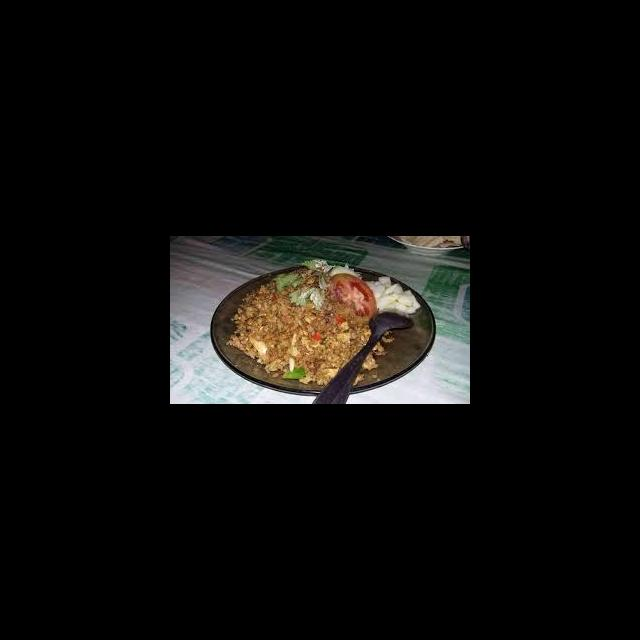food_waste: (259, 287, 353, 360)
